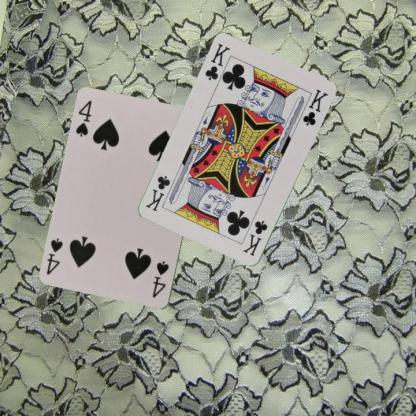4s: (150, 258, 171, 300), (73, 98, 93, 138)
Kc: (202, 41, 232, 82), (240, 218, 269, 258)
